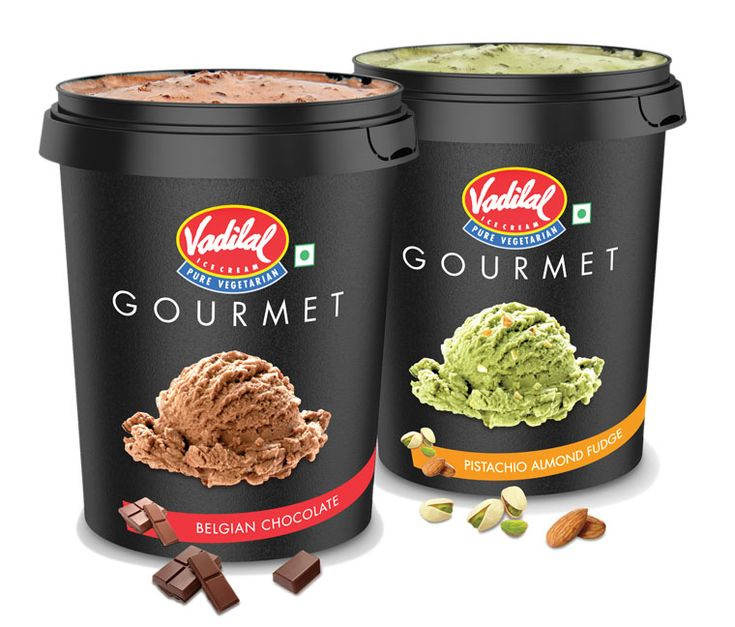VEG: (293, 243, 316, 268), (570, 202, 592, 227)
